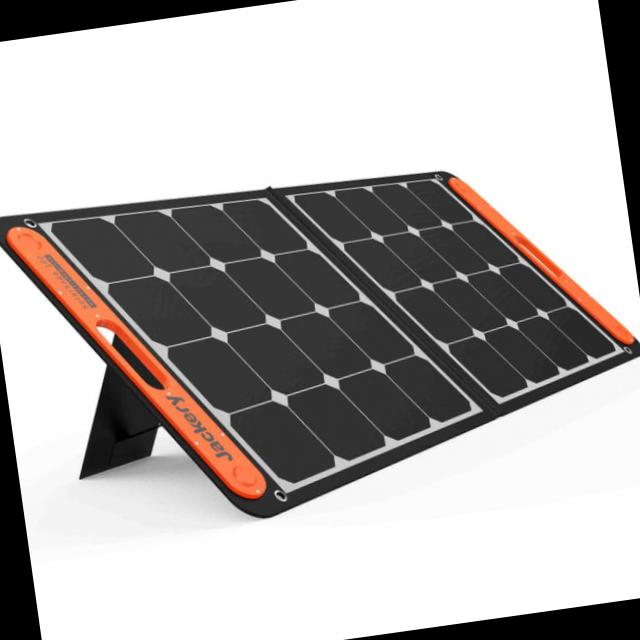no faulty: (39, 167, 622, 494)
